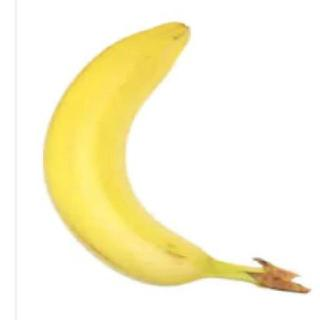banana: (40, 19, 212, 288)
